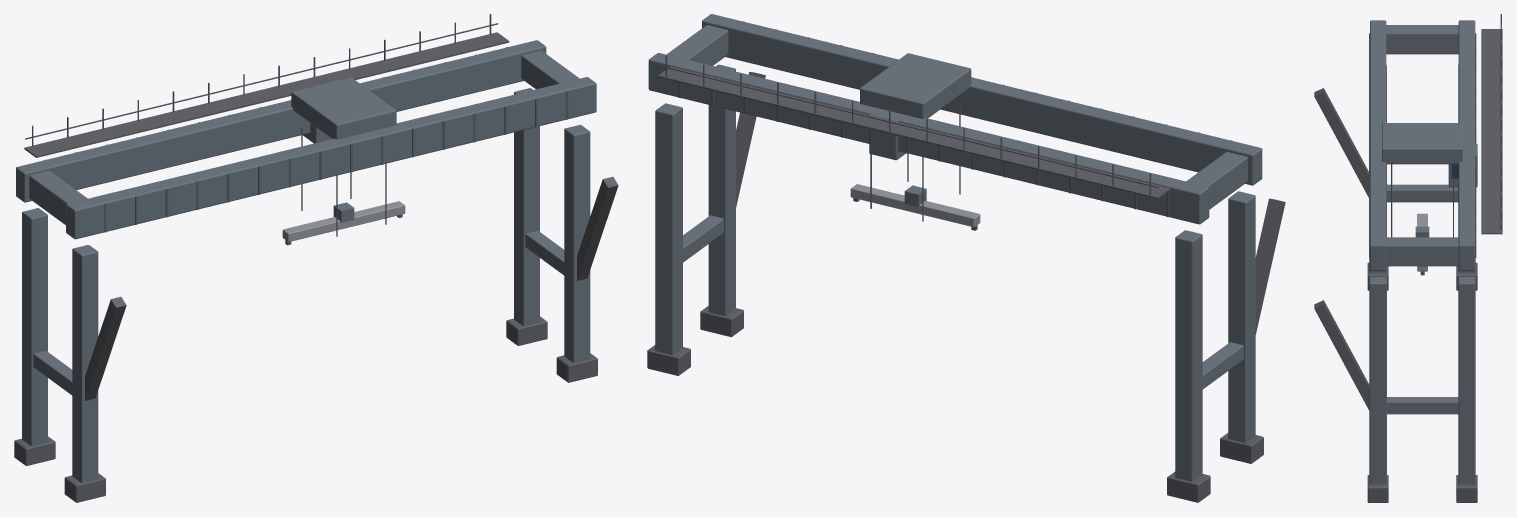
Rendered from bl-gantry.glb.
3 renders of one model, left to right at view 1: azimuth 30°, elevation 25°; view 2: azimuth 150°, elevation 25°; view 3: azimuth 270°, elevation 25°, orthographic. The views are drawn at different scales.
Visible parts, largest first — view 1: gantry; view 2: gantry; view 3: gantry.
Part boxes in pixels (left/top/right/bottom): gantry: left=14, top=14, right=618, bottom=502; gantry: left=647, top=14, right=1285, bottom=502; gantry: left=1314, top=14, right=1502, bottom=502.
Size of the model in its own units: 27.6 by 15.87 by 9.76.
